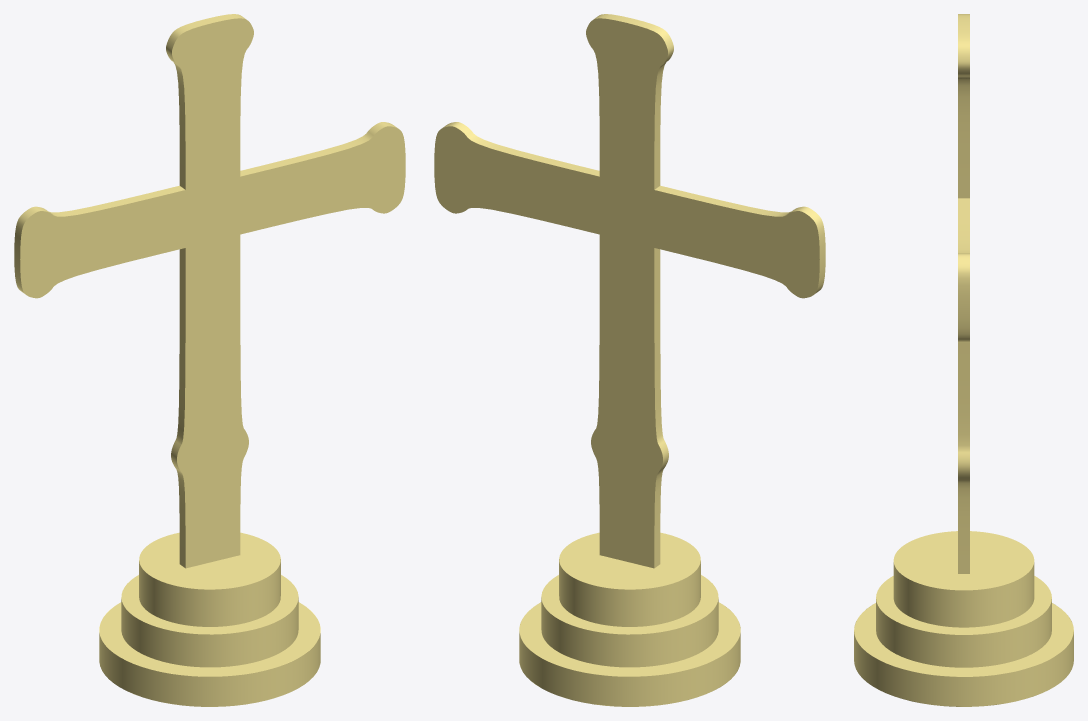
File: Cross_Standing.fbx
3 views of the same model, side by side, from view 1: azimuth 30°, elevation 25°; view 2: azimuth 150°, elevation 25°; view 3: azimuth 270°, elevation 25° (orthographic).
Visible parts, largest first — view 1: Base_Brass; view 2: Base_Brass; view 3: Base_Brass.
Boxes of the visible parts, x1,y1,x2,y2 form: Base_Brass: [14, 14, 405, 706]; Base_Brass: [434, 14, 825, 706]; Base_Brass: [854, 14, 1073, 706].
Bounding box in the file's own units: 120 × 190 × 59.56.
